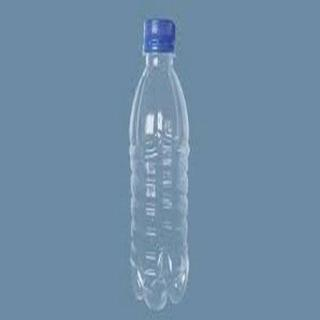Plastic-bottle: (128, 18, 192, 317)
